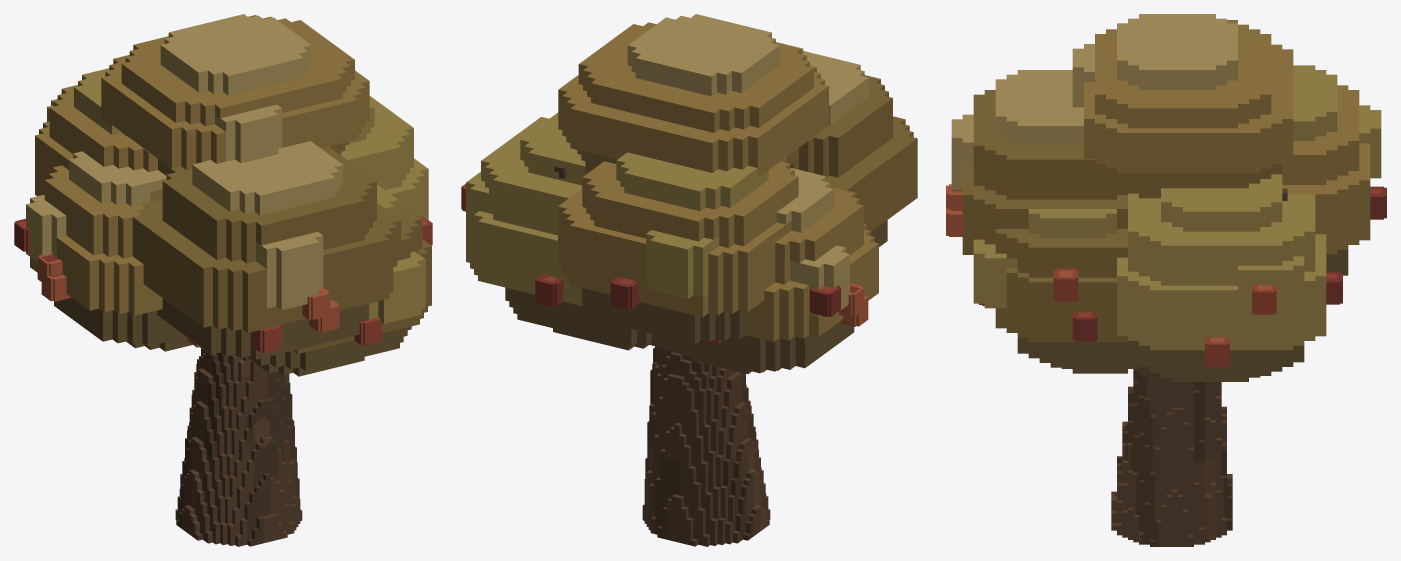
The model's file is apple_mature_autumn_fruiting_3.glb.
3 renders of one model, left to right at view 1: azimuth 30°, elevation 25°; view 2: azimuth 150°, elevation 25°; view 3: azimuth 270°, elevation 25°, orthographic.
Parts seen in each view (by area): view 1: VoxelVisual; view 2: VoxelVisual; view 3: VoxelVisual.
Part boxes in pixels (bbox=[...]): VoxelVisual: bbox=[14, 14, 432, 546]; VoxelVisual: bbox=[461, 14, 917, 546]; VoxelVisual: bbox=[946, 14, 1386, 546].
Size of what is drawn, in the model's own units: 9.75 by 12 by 10.
